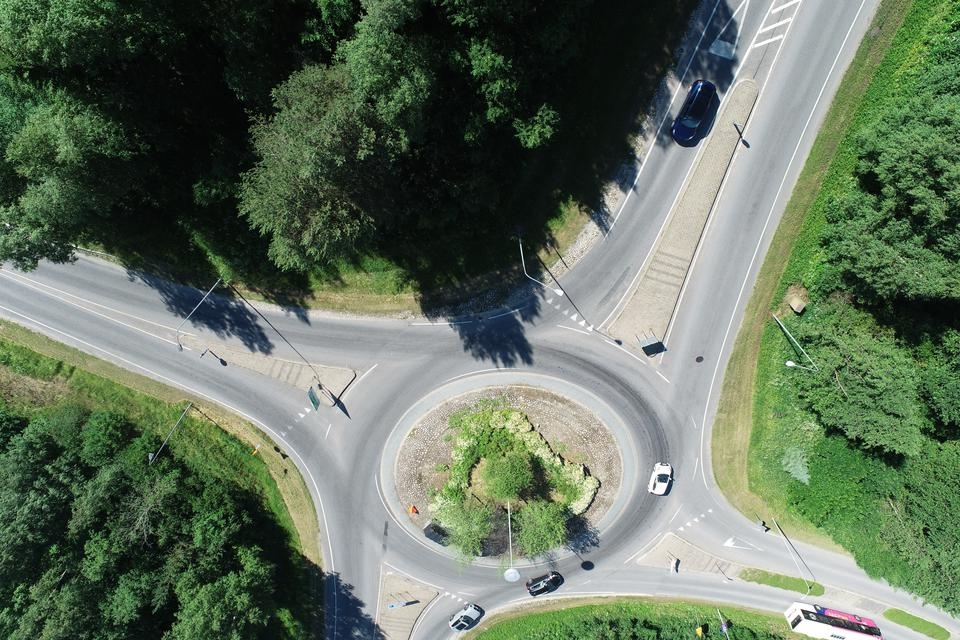roundabout: (245, 261, 761, 640)
